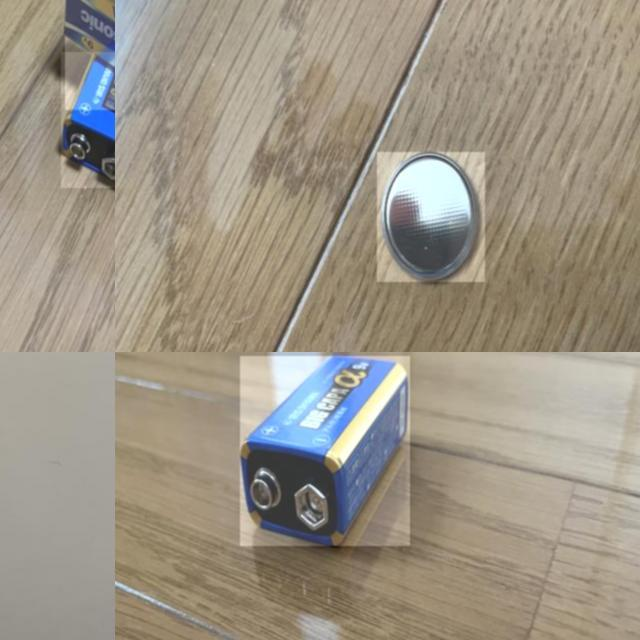9V: (240, 356, 410, 546), (61, 52, 115, 188), (64, 0, 115, 111)
